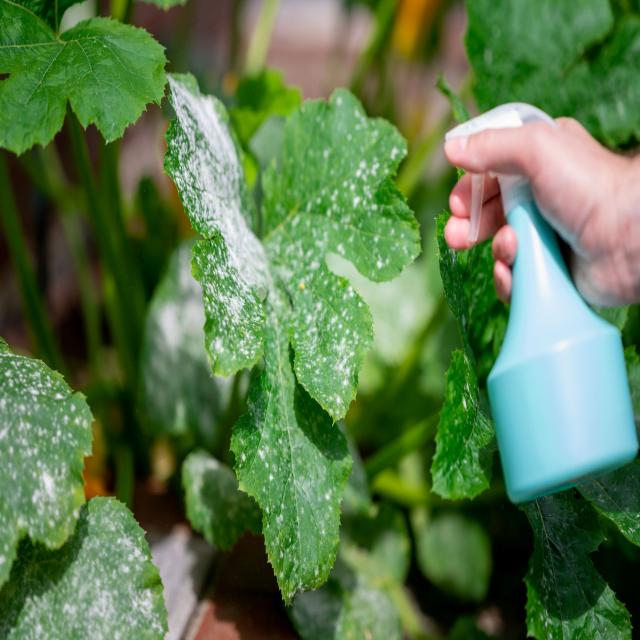Powdery Mildew: (161, 68, 423, 607), (162, 71, 272, 378), (4, 494, 170, 638)
